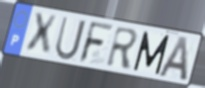A: (157, 35, 191, 83)
F: (77, 20, 116, 65)
M: (132, 30, 171, 76)
R: (105, 25, 141, 71)
U: (53, 15, 88, 63)
X: (24, 11, 59, 57)
